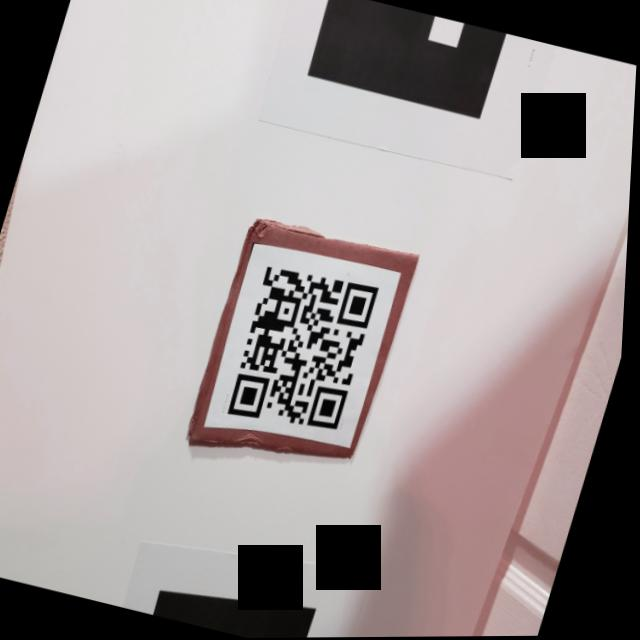QR_CODE: (219, 248, 394, 451)
